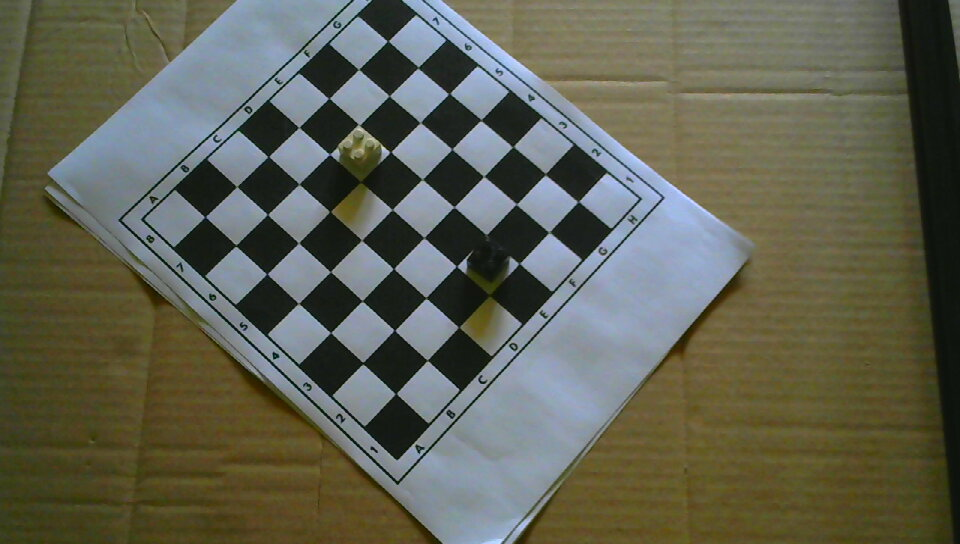bp: (466, 238, 512, 282)
wp: (336, 126, 383, 174)
